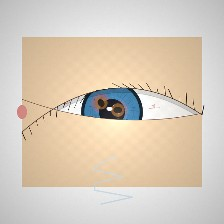foreign_body_visible: (96, 93, 139, 127)
